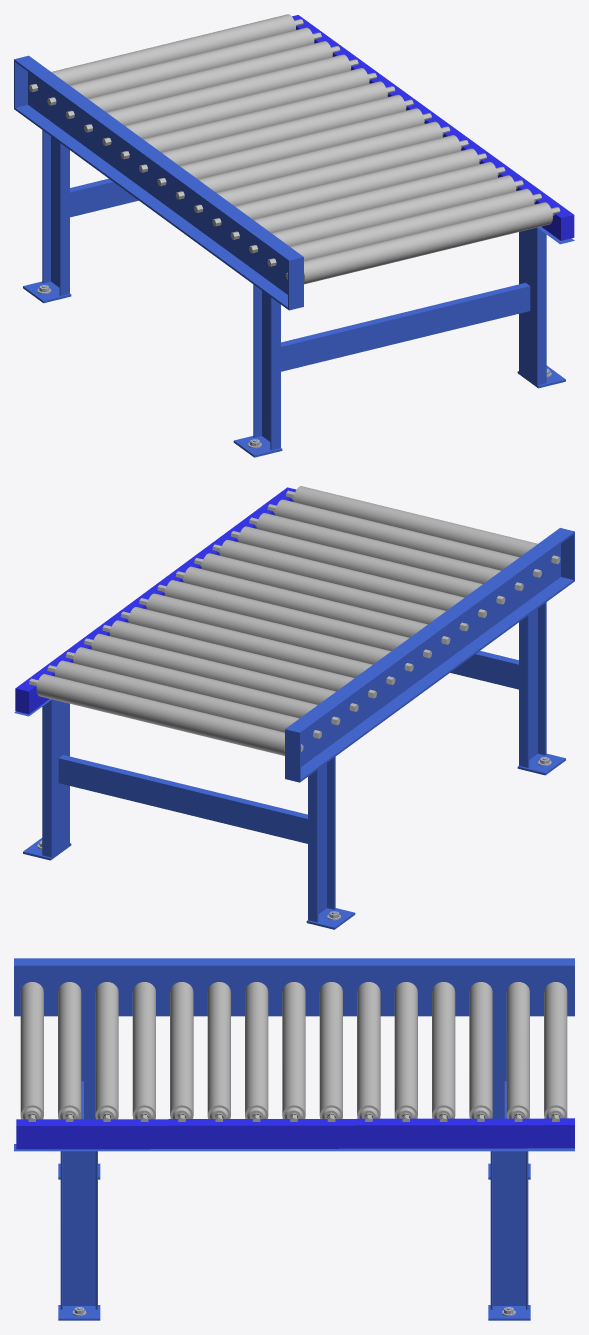
The model's file is convery.dae.
The picture shows the model from 3 angles, top to bottom: view 1: azimuth 30°, elevation 25°; view 2: azimuth 150°, elevation 25°; view 3: azimuth 270°, elevation 25°; orthographic projection.
Visible parts, largest first — view 1: group_0 (×23); view 2: group_0 (×23); view 3: group_0 (×20).
Part boxes in pixels (bbox=[...]): group_0 (×23): bbox=[14, 14, 574, 457]; group_0 (×23): bbox=[14, 486, 574, 929]; group_0 (×20): bbox=[14, 958, 574, 1320].
Size of the model in its own units: 39.25 by 60.01 by 25.25.
